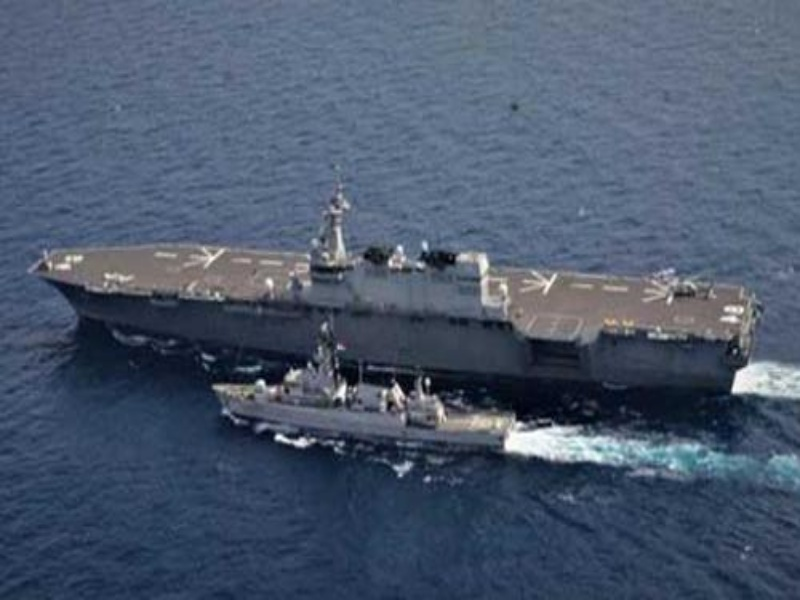carrier: (40, 228, 750, 391)
cruise: (211, 348, 516, 450)
